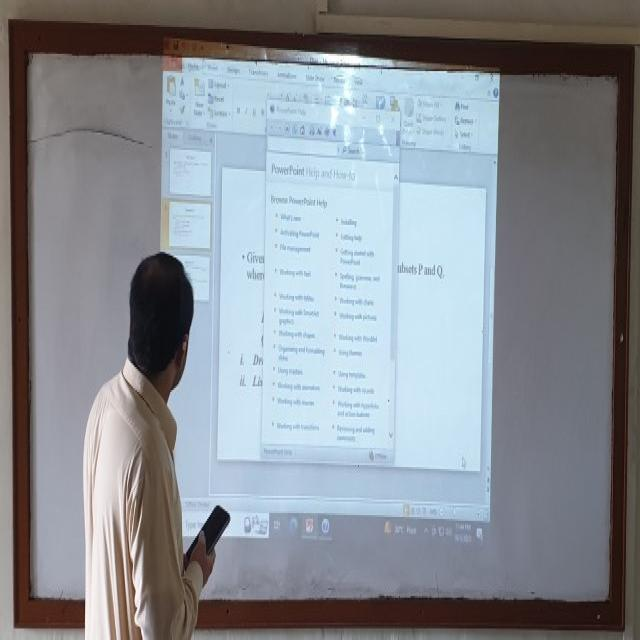Instructor: (93, 244, 208, 640)
Slide: (158, 42, 502, 556)
White-board: (21, 32, 629, 615)
